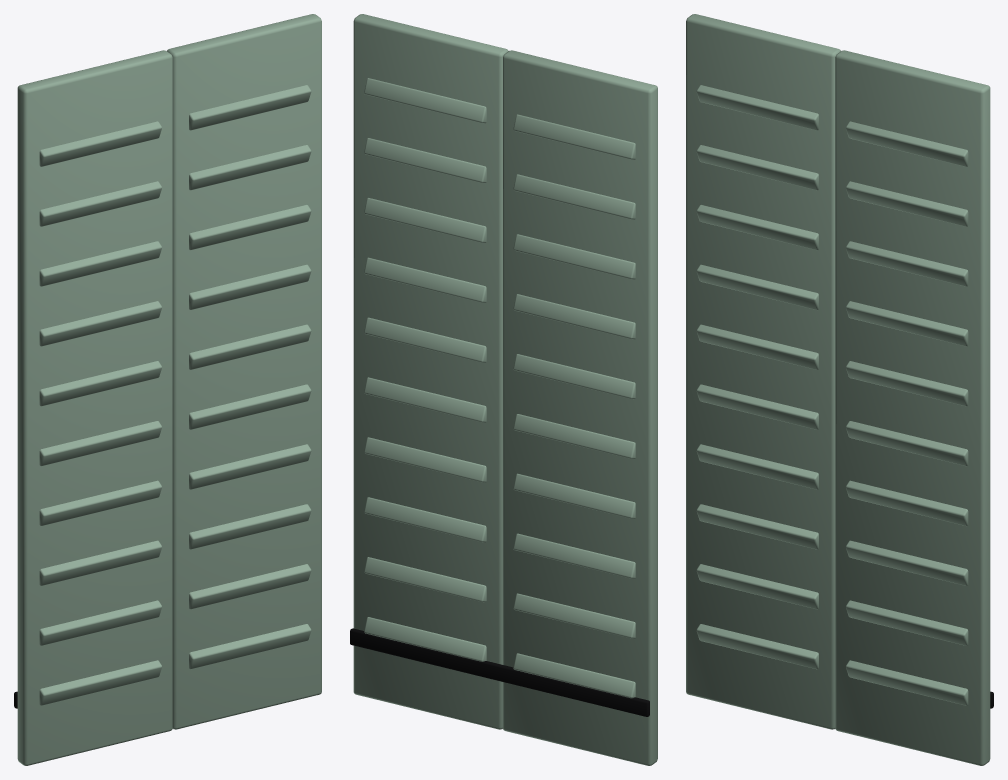
The model's file is Shutter_Pair.fbx.
The picture shows the model from 3 angles, left to right: view 1: azimuth 30°, elevation 25°; view 2: azimuth 150°, elevation 25°; view 3: azimuth 330°, elevation 25°; orthographic projection.
Visible parts, largest first — view 1: Shutter_Pair; view 2: Shutter_Pair; view 3: Shutter_Pair.
Boxes of the visible parts, x1,y1,x2,y2 form: Shutter_Pair: [14, 14, 321, 765]; Shutter_Pair: [350, 14, 657, 765]; Shutter_Pair: [686, 14, 993, 765].
Bounding box in the file's own units: 0.6 × 0.0557 × 1.3.
